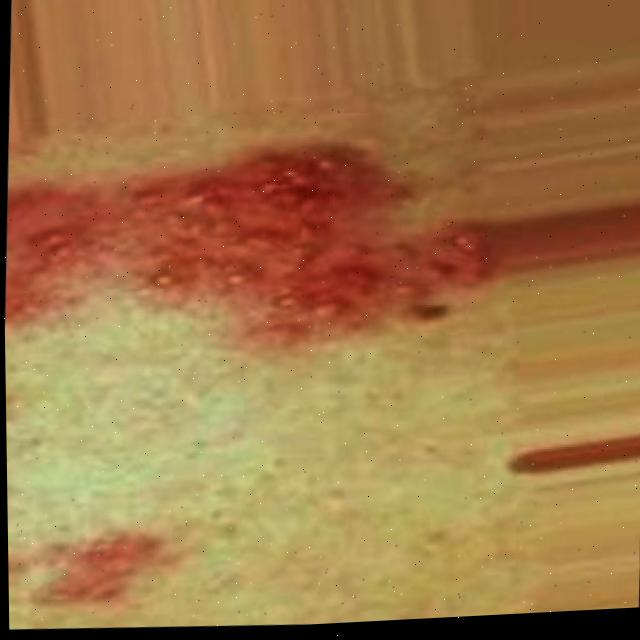Shingles: (2, 141, 477, 368), (39, 522, 166, 613)
